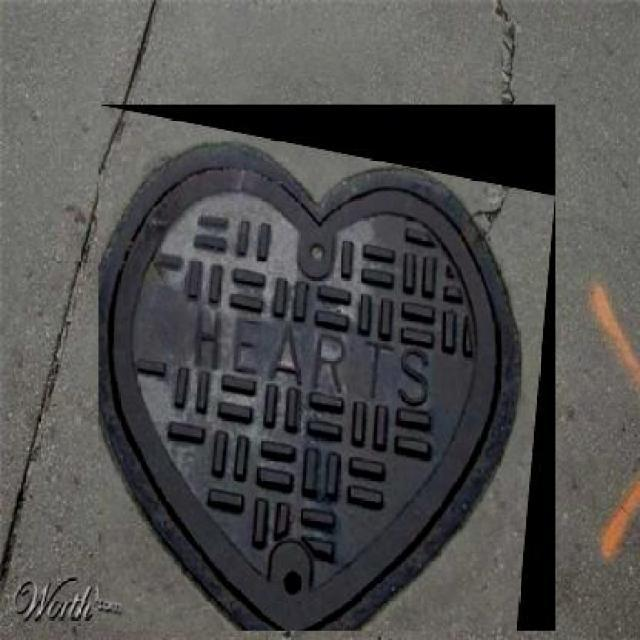Manhole: (99, 104, 556, 630)
